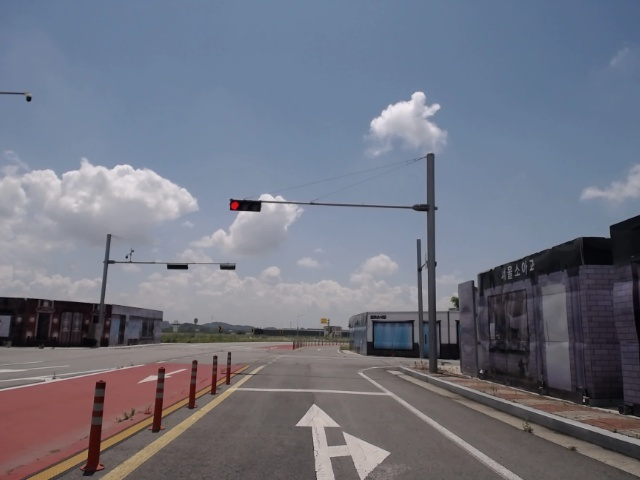red_3: (229, 199, 262, 212)
